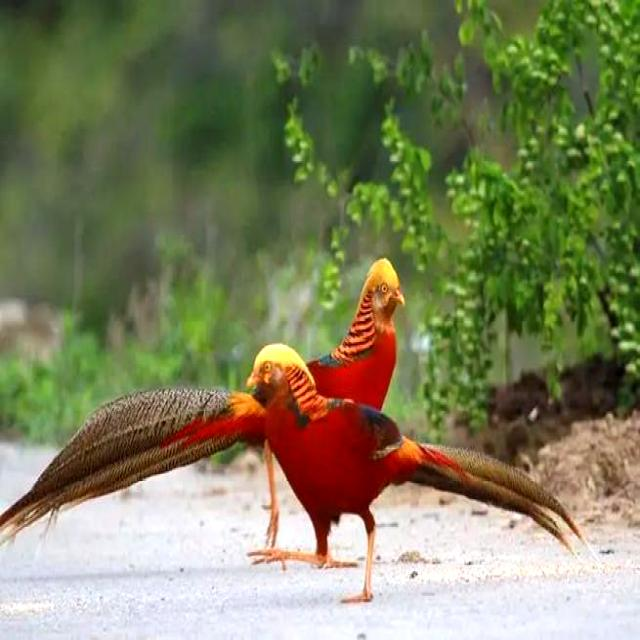Chrysolophus pictus feather: (0, 386, 239, 548), (408, 443, 598, 560)
